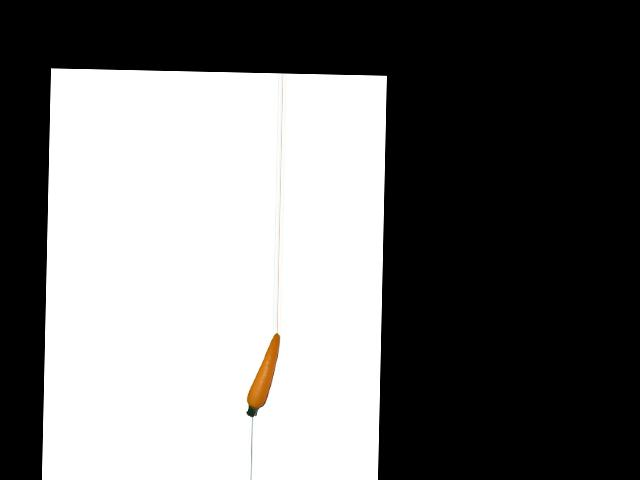carrot: (245, 333, 280, 418)
